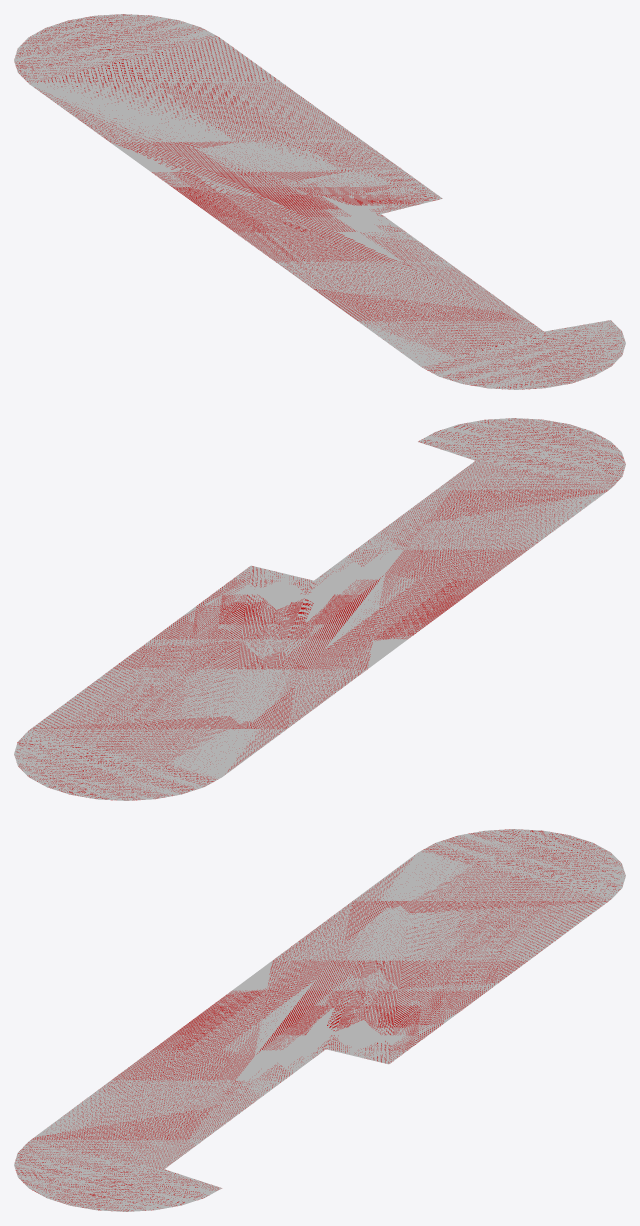
Rendered from original-122.obj.
The picture shows the model from 3 angles, top to bottom: view 1: azimuth 30°, elevation 25°; view 2: azimuth 150°, elevation 25°; view 3: azimuth 330°, elevation 25°; orthographic projection.
Visible parts, largest first — view 1: #ID717; view 2: #ID717; view 3: #ID717.
Part boxes in pixels (bbox=[...]): #ID717: bbox=[14, 14, 625, 389]; #ID717: bbox=[14, 418, 625, 800]; #ID717: bbox=[14, 829, 625, 1211].
Bounding box in the file's own units: 0.238 × 0 × 1.05.
